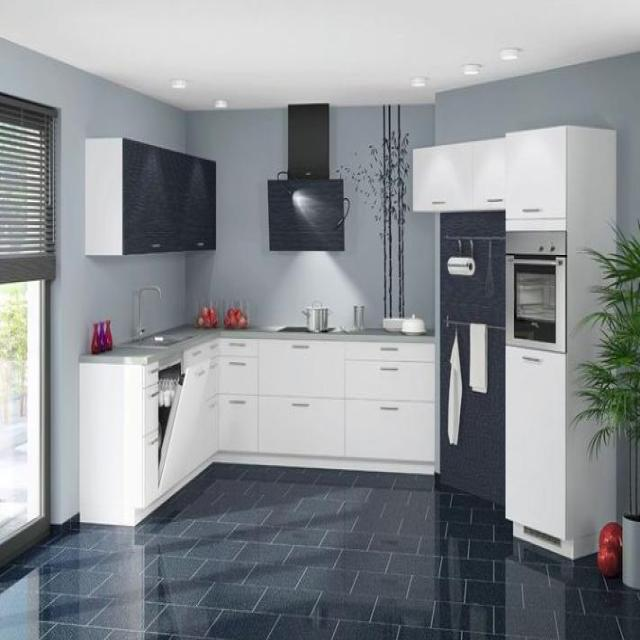dishwasher: (156, 349, 208, 492)
